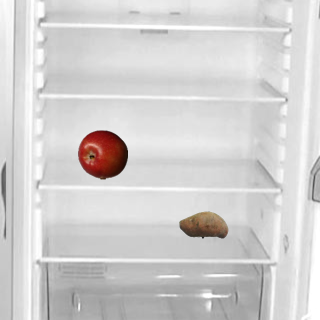Apple Braeburn: (77, 129, 127, 179)
Potato Sweet: (178, 199, 228, 249)
